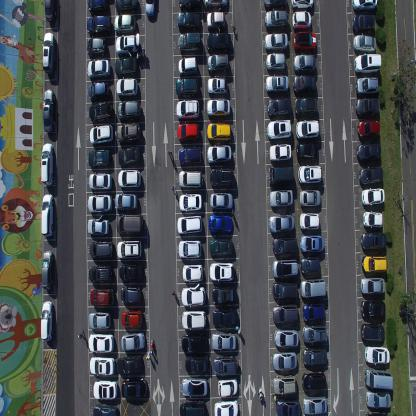car: (180, 332, 209, 355), (176, 211, 202, 236), (42, 88, 56, 134), (364, 368, 393, 390), (40, 193, 54, 238), (354, 52, 382, 74), (116, 121, 141, 145), (268, 164, 294, 187), (271, 257, 298, 279), (120, 378, 148, 399), (89, 100, 113, 124), (116, 33, 140, 57), (90, 122, 113, 147), (41, 143, 54, 187), (206, 144, 232, 166), (180, 285, 206, 307), (180, 308, 206, 330), (42, 30, 55, 74), (299, 278, 326, 299), (116, 213, 143, 234), (360, 231, 388, 251), (175, 77, 199, 100), (180, 378, 209, 397), (272, 234, 297, 256), (208, 212, 233, 234), (209, 166, 234, 188), (175, 99, 200, 121), (92, 379, 117, 401), (272, 350, 297, 372), (117, 238, 142, 260), (266, 118, 291, 140), (264, 8, 289, 30), (178, 168, 204, 189), (40, 300, 53, 342), (206, 122, 232, 143), (212, 308, 238, 329), (212, 356, 238, 377), (116, 354, 142, 375), (272, 304, 299, 324), (208, 261, 235, 281), (41, 250, 54, 291), (118, 144, 141, 167), (206, 53, 229, 76), (178, 144, 202, 166), (177, 122, 201, 144), (87, 57, 111, 79), (178, 31, 202, 53), (293, 30, 317, 52), (272, 376, 297, 397), (86, 15, 111, 36), (267, 97, 292, 118), (118, 262, 144, 282), (211, 332, 237, 352), (120, 331, 146, 351), (87, 193, 113, 213), (355, 98, 381, 118), (358, 164, 384, 184), (88, 356, 115, 375), (272, 329, 299, 348), (359, 276, 386, 295), (302, 302, 325, 324), (116, 76, 139, 98), (296, 140, 319, 162), (352, 12, 375, 34), (118, 168, 142, 189), (210, 286, 238, 304), (87, 334, 115, 352), (117, 100, 141, 121), (269, 187, 293, 208), (268, 142, 292, 163), (272, 280, 297, 300), (208, 236, 233, 256), (302, 348, 327, 368), (302, 372, 327, 392), (206, 32, 231, 52), (302, 325, 328, 344), (176, 12, 202, 31), (269, 214, 295, 233), (356, 142, 382, 161), (364, 390, 391, 408), (88, 147, 111, 168), (299, 235, 323, 255), (210, 190, 234, 210), (179, 191, 203, 211), (206, 99, 230, 119), (90, 287, 114, 307), (120, 308, 144, 328), (114, 56, 138, 76), (294, 96, 318, 116), (292, 74, 316, 94), (265, 74, 289, 94), (356, 76, 380, 96), (361, 186, 385, 206), (302, 396, 327, 415), (365, 346, 390, 365), (88, 263, 113, 282), (184, 356, 210, 374), (362, 255, 388, 273), (362, 321, 384, 342), (181, 262, 204, 282), (88, 310, 111, 330), (113, 13, 136, 33), (293, 53, 316, 73), (353, 34, 376, 54), (361, 301, 385, 320), (89, 240, 113, 259), (298, 165, 322, 184), (264, 32, 288, 51), (275, 398, 300, 416), (356, 120, 381, 138), (121, 283, 142, 304), (206, 76, 228, 96), (177, 55, 197, 77), (86, 36, 106, 58), (178, 239, 201, 258), (88, 172, 112, 190), (295, 120, 319, 138), (265, 52, 286, 72), (299, 188, 321, 207), (179, 400, 205, 416), (87, 80, 110, 98), (114, 193, 138, 210), (214, 400, 239, 416), (292, 10, 312, 30), (217, 379, 238, 398), (299, 211, 320, 230), (298, 256, 320, 274), (350, 0, 378, 14), (362, 210, 383, 228), (87, 218, 109, 235), (206, 12, 226, 30), (115, 0, 139, 14), (44, 0, 57, 25), (178, 0, 202, 13), (88, 0, 108, 15), (290, 0, 314, 11), (92, 405, 118, 415), (263, 0, 288, 10), (145, 0, 156, 20), (206, 0, 228, 9), (365, 410, 390, 415)
